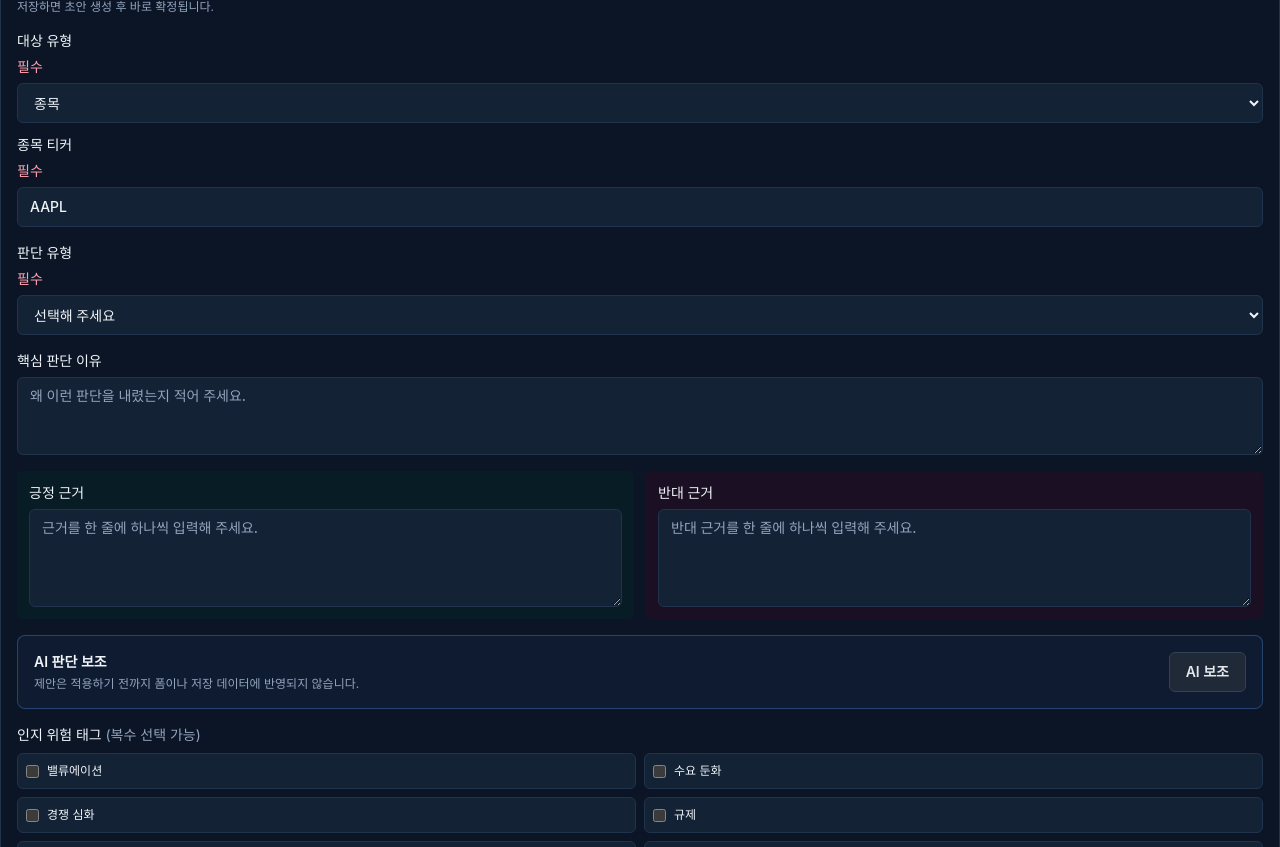
Test: DecisionFormPanel › lets the user edit or ignore a suggestion before it changes the form
The width and height of the screenshot is (1280, 847).
Click the button "AI 보조" at [1207, 672], box [1169, 652, 1246, 692]
(page scrolled)
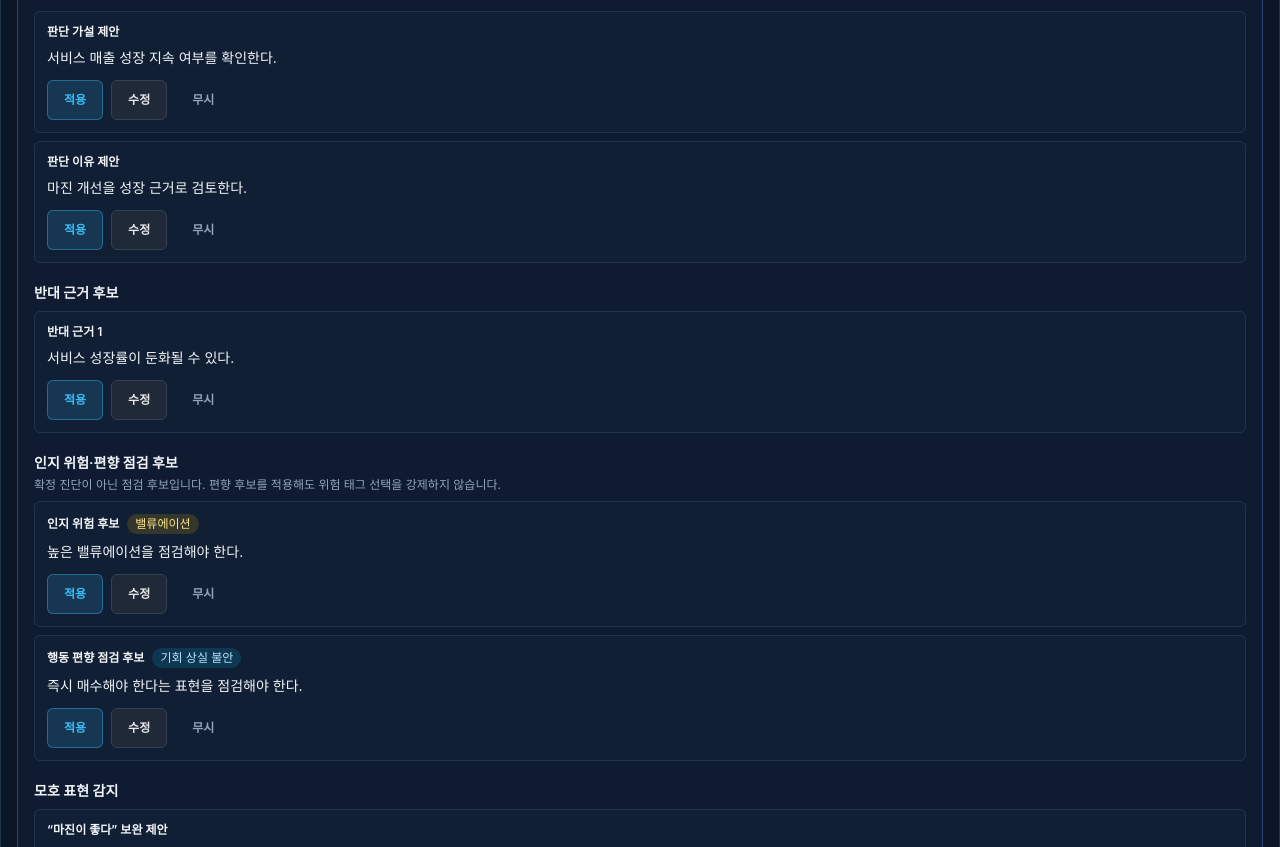
expect the text "서비스 성장률이 둔화될 수 있다." is shown: met, box [47, 349, 234, 366]
Click the button "수정" below "서비스 성장률이 둔화될 수 있다." at [139, 400], box [111, 380, 167, 420]
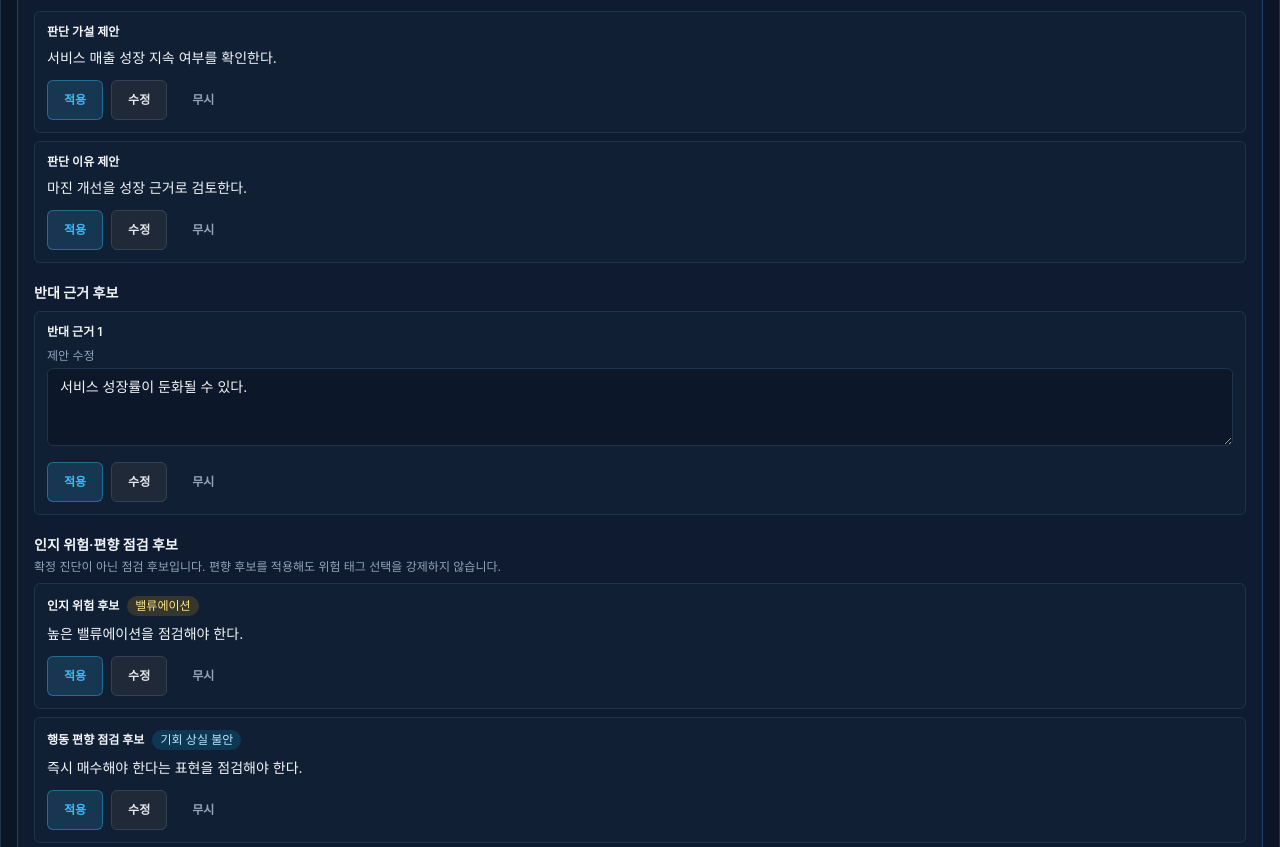
Replace the text in the text box labelled "제안 수정" with "성장률과 마진이 함께 둔화될 수 있다." at [640, 407], box [47, 368, 1233, 446]
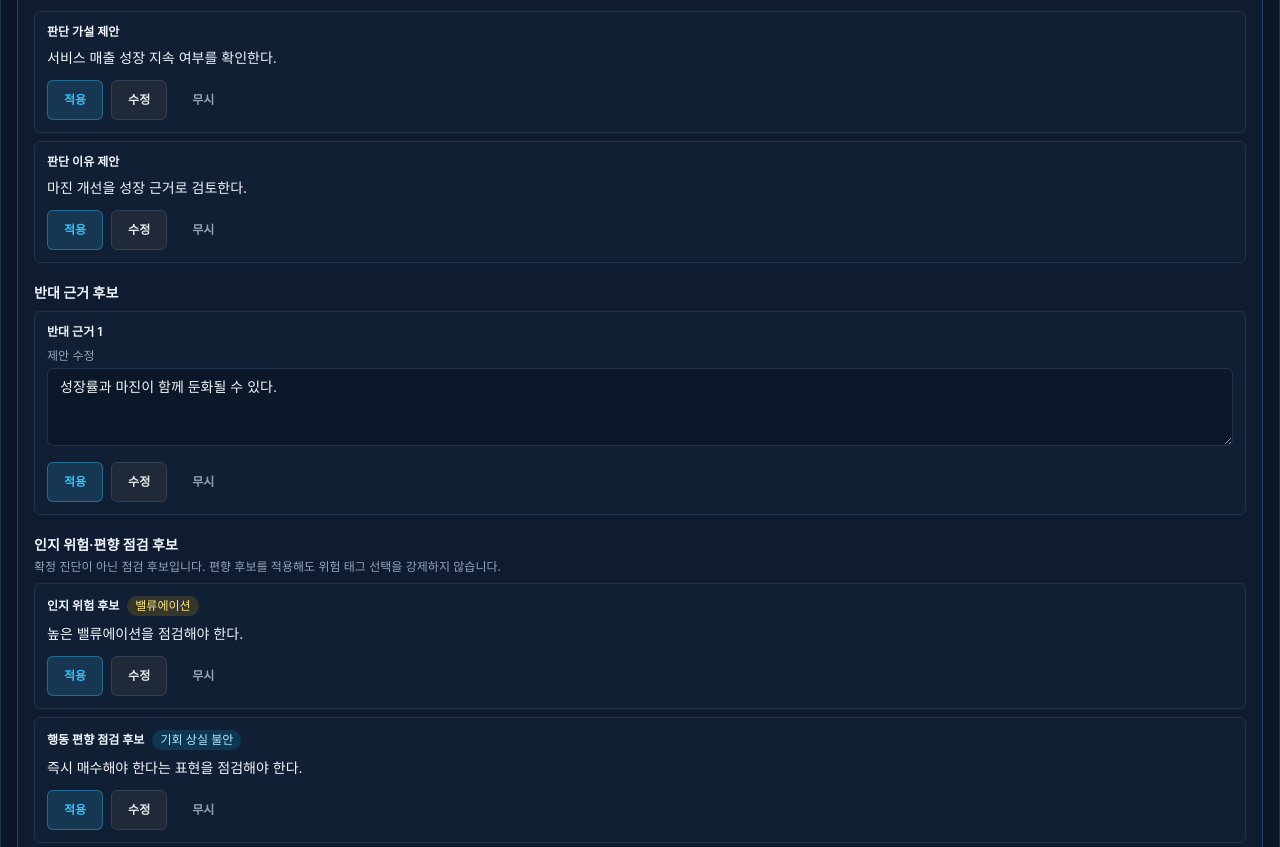
Click the button "적용" below "제안 수정" at [75, 482], box [47, 462, 103, 502]
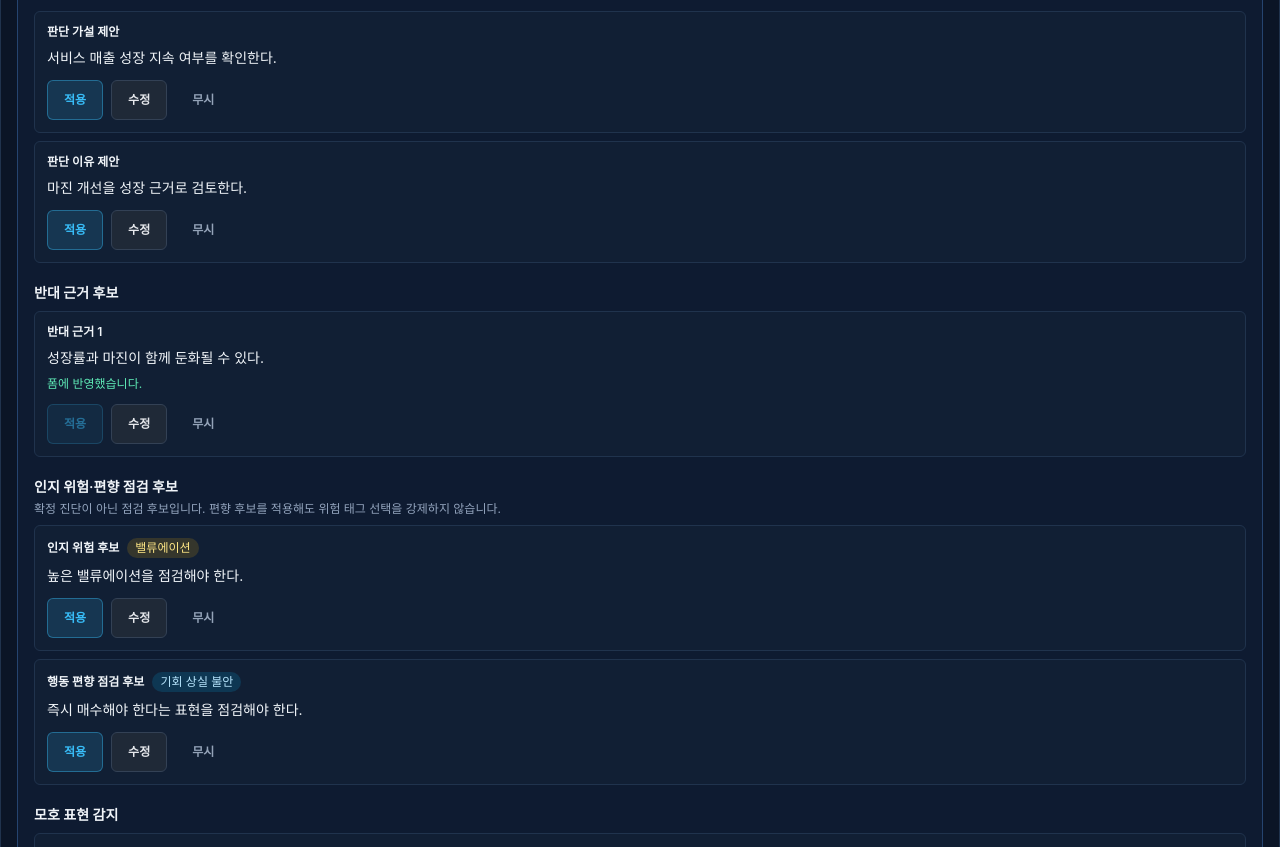
Click the button "무시" below "서비스 매출 성장 지속 여부를 확인한다." at [203, 100], box [175, 80, 231, 120]
(page scrolled)
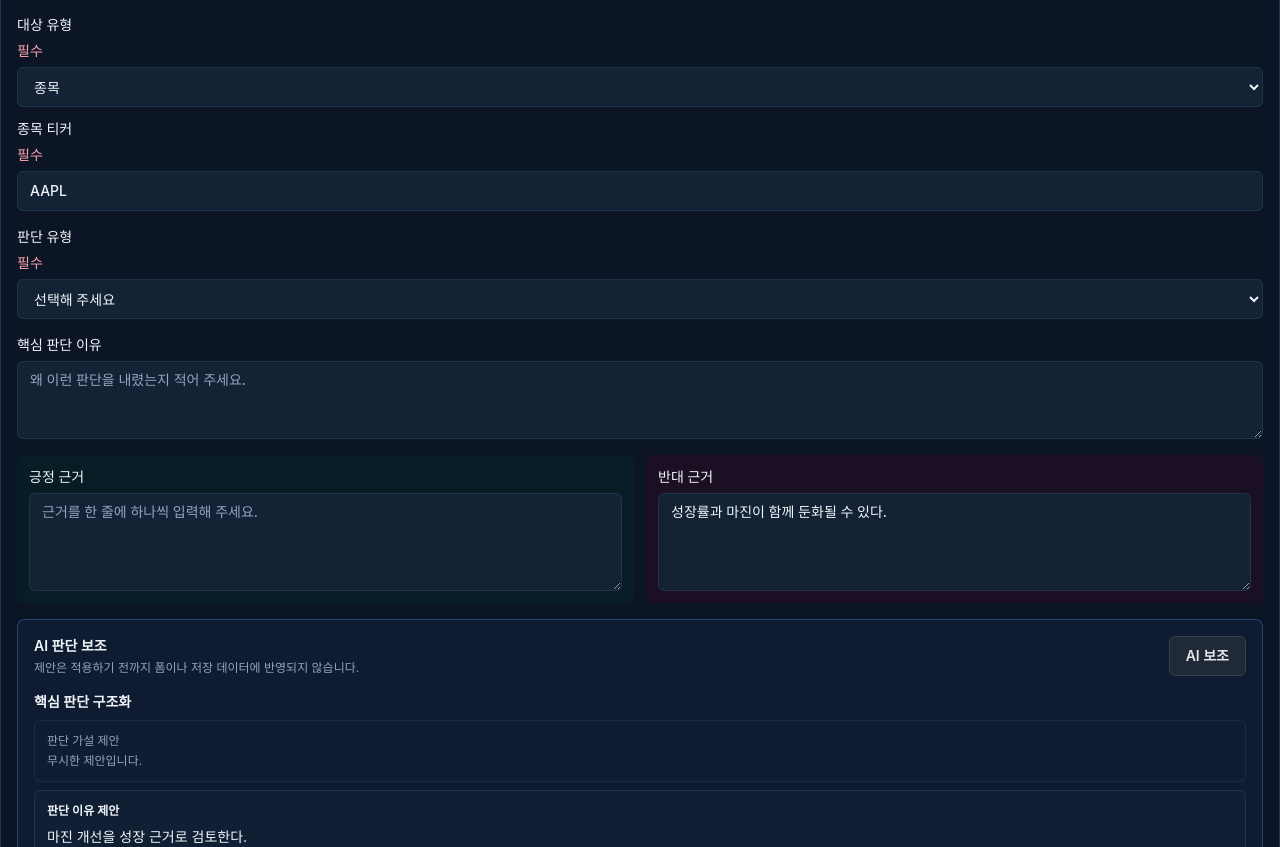
expect the text box labelled "핵심 판단 이유" is empty: met, box [17, 361, 1263, 439]
expect the text "무시한 제안입니다." is shown: met, box [47, 753, 142, 768]
